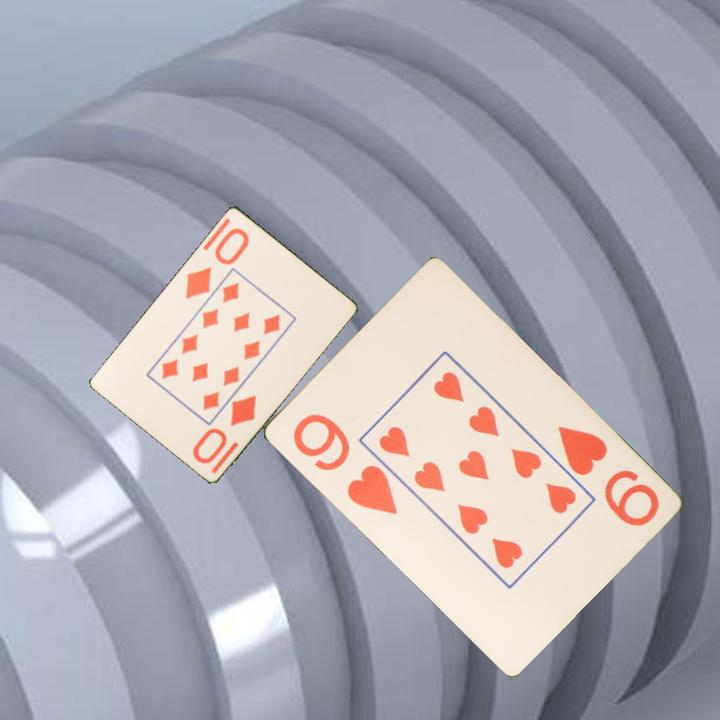10d: (181, 224, 252, 301), (189, 391, 259, 467)
9h: (288, 410, 400, 518), (553, 422, 662, 530)
